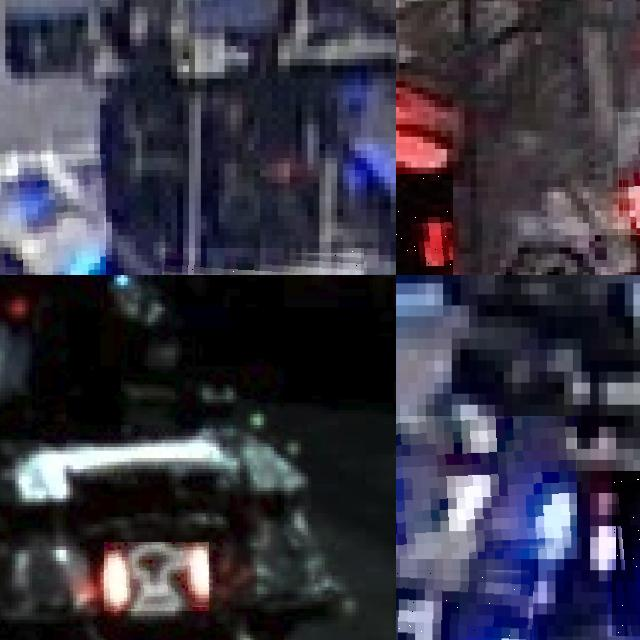B1: (396, 415, 577, 559), (0, 154, 106, 275), (396, 559, 534, 640), (612, 470, 640, 636)
R1: (396, 173, 452, 275)
Rs: (104, 542, 209, 612)
